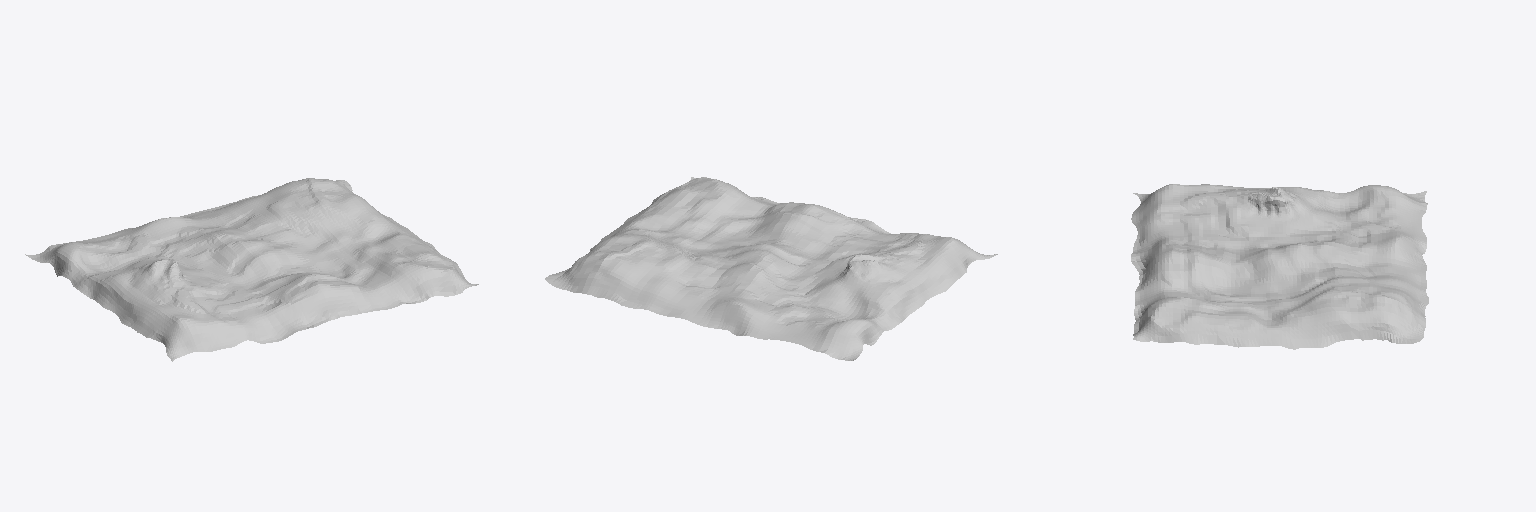
The model's file is Terrain.obj.
3 renders of one model, left to right at view 1: azimuth 30°, elevation 25°; view 2: azimuth 150°, elevation 25°; view 3: azimuth 270°, elevation 25°, orthographic.
Parts seen in each view (by area): view 1: Terrain; view 2: Terrain; view 3: Terrain.
Part boxes in pixels (x1,y1,x2,y2): Terrain: (25,178,478,361); Terrain: (545,177,997,360); Terrain: (1131,184,1428,349).
Size of the model in its own units: 27225 by 3179 by 22176.